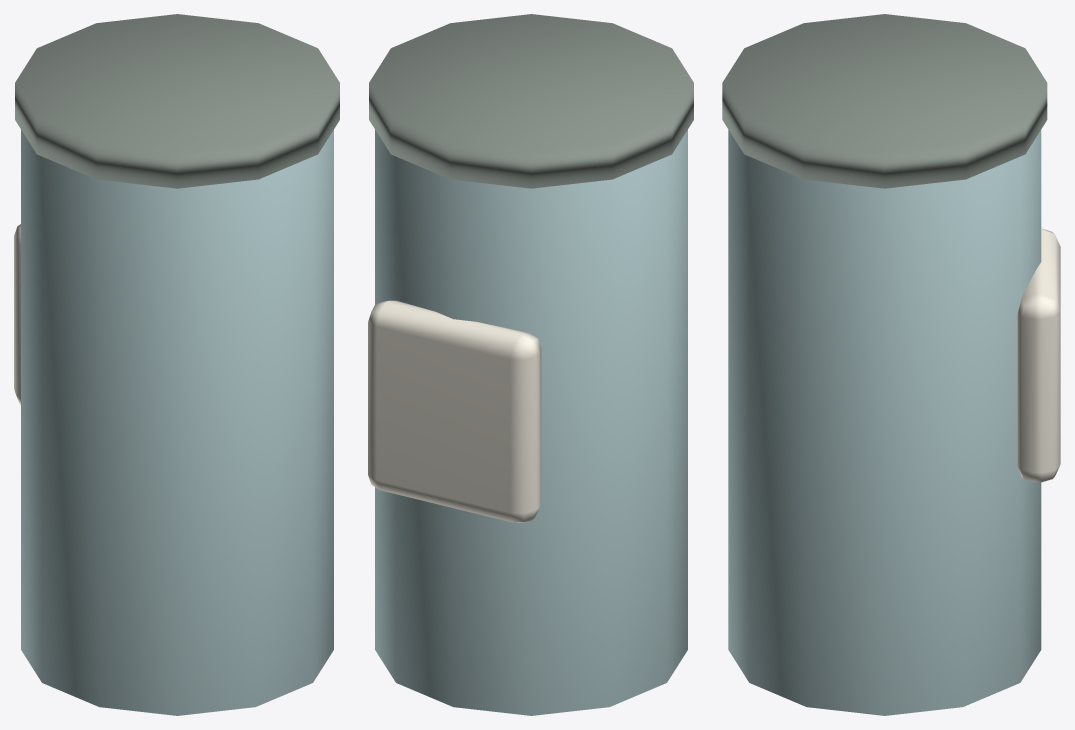
Rendered from trash_can.glb.
The picture shows the model from 3 angles, left to right: view 1: azimuth 30°, elevation 25°; view 2: azimuth 150°, elevation 25°; view 3: azimuth 270°, elevation 25°; orthographic projection.
Size of the model in its own units: 0.11 by 0.212 by 0.1145.
